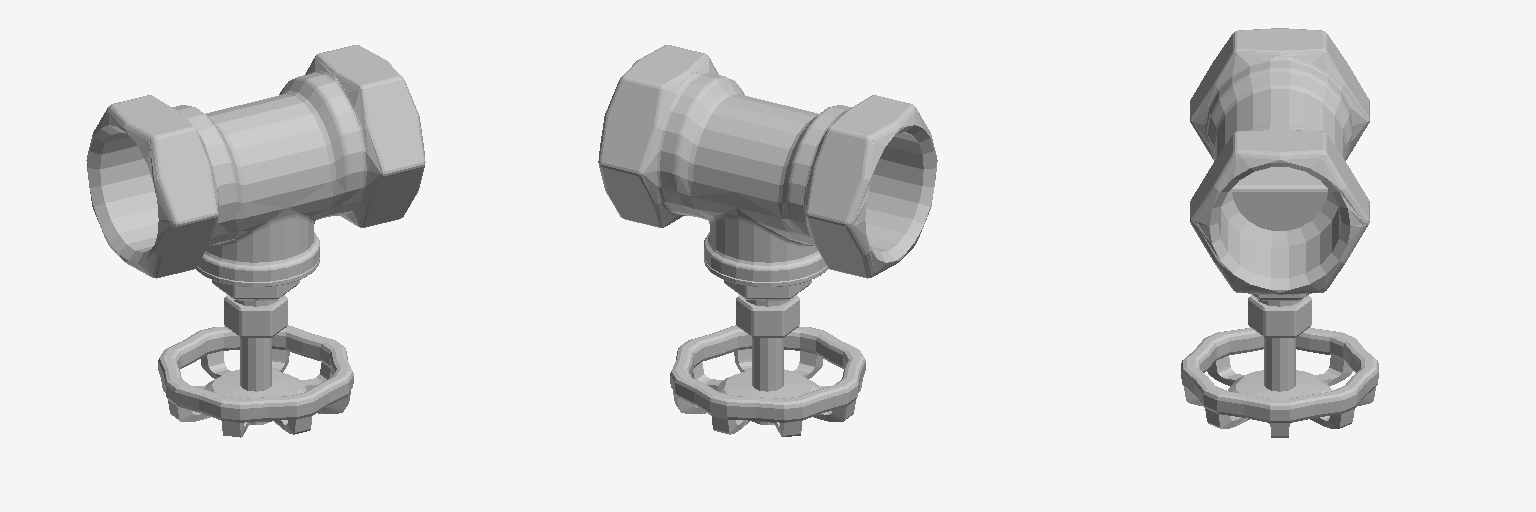
File: newvalve.obj
3 renders of one model, left to right at view 1: azimuth 30°, elevation 25°; view 2: azimuth 150°, elevation 25°; view 3: azimuth 270°, elevation 25°, orthographic.
Visible parts, largest first — view 1: Bronze_valve_Circle.013; view 2: Bronze_valve_Circle.013; view 3: Bronze_valve_Circle.013.
Boxes of the visible parts, x1=… form: Bronze_valve_Circle.013: x1=86, y1=45, x2=425, y2=437; Bronze_valve_Circle.013: x1=598, y1=45, x2=937, y2=436; Bronze_valve_Circle.013: x1=1181, y1=28, x2=1378, y2=437.
Size of the model in its own units: 186 by 223 by 120.